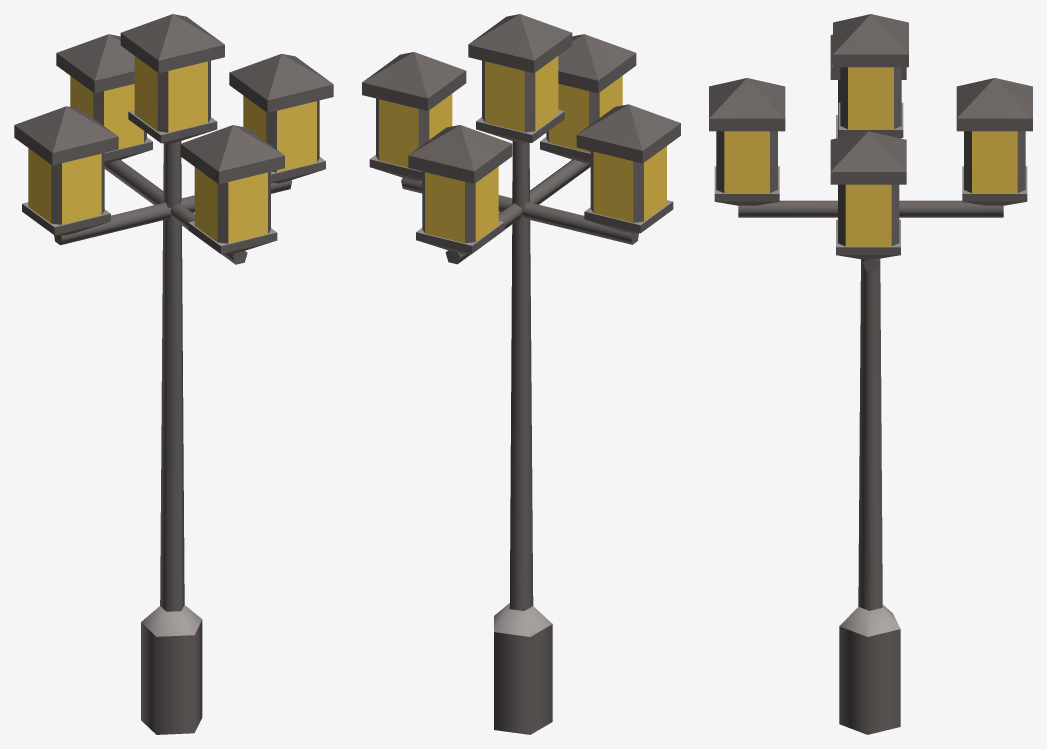
The model's file is lamp_post_001.glb.
3 renders of one model, left to right at view 1: azimuth 30°, elevation 25°; view 2: azimuth 150°, elevation 25°; view 3: azimuth 270°, elevation 25°, orthographic.
Visible parts, largest first — view 1: lamp_post_001; view 2: lamp_post_001; view 3: lamp_post_001.
Boxes of the visible parts, x1,y1,x2,y2 form: lamp_post_001: [14, 14, 333, 734]; lamp_post_001: [362, 14, 680, 734]; lamp_post_001: [709, 14, 1032, 734].
Size of the model in its own units: 2.12 by 5.11 by 2.12.
2 materials, 2 textured.
